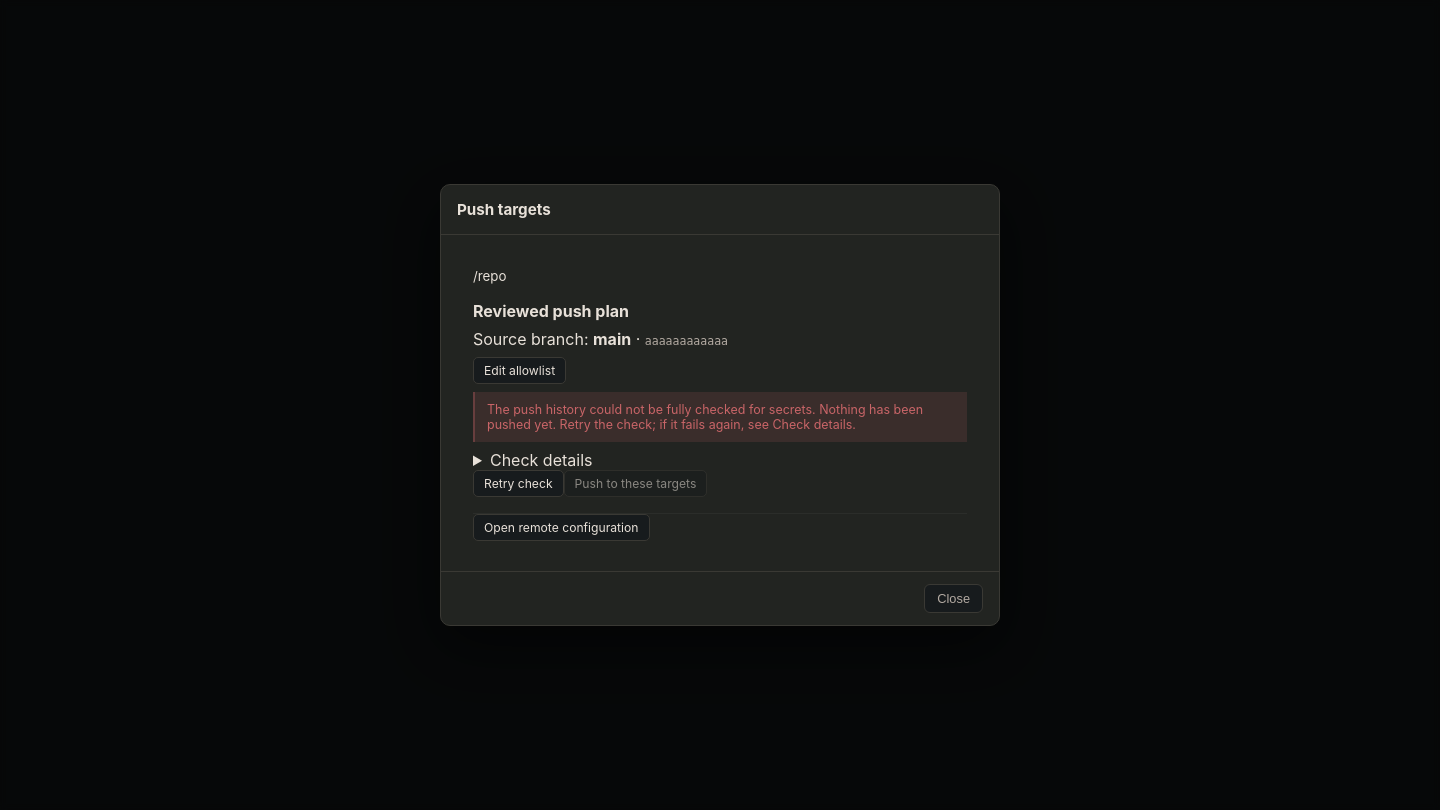
Scenario: remote transfer host and selection UI › explains incomplete scans and lets the user retry without changing remote settings
This screenshot has width=1440, height=810.
expect the message shows "Nothing has been pushed yet": met, box left=487, top=402, right=927, bottom=432
expect the button "Push to these targets" is disabled: met, box left=564, top=470, right=707, bottom=497
Click the button "Retry check". click: (518, 484)
box: left=473, top=470, right=564, bottom=497
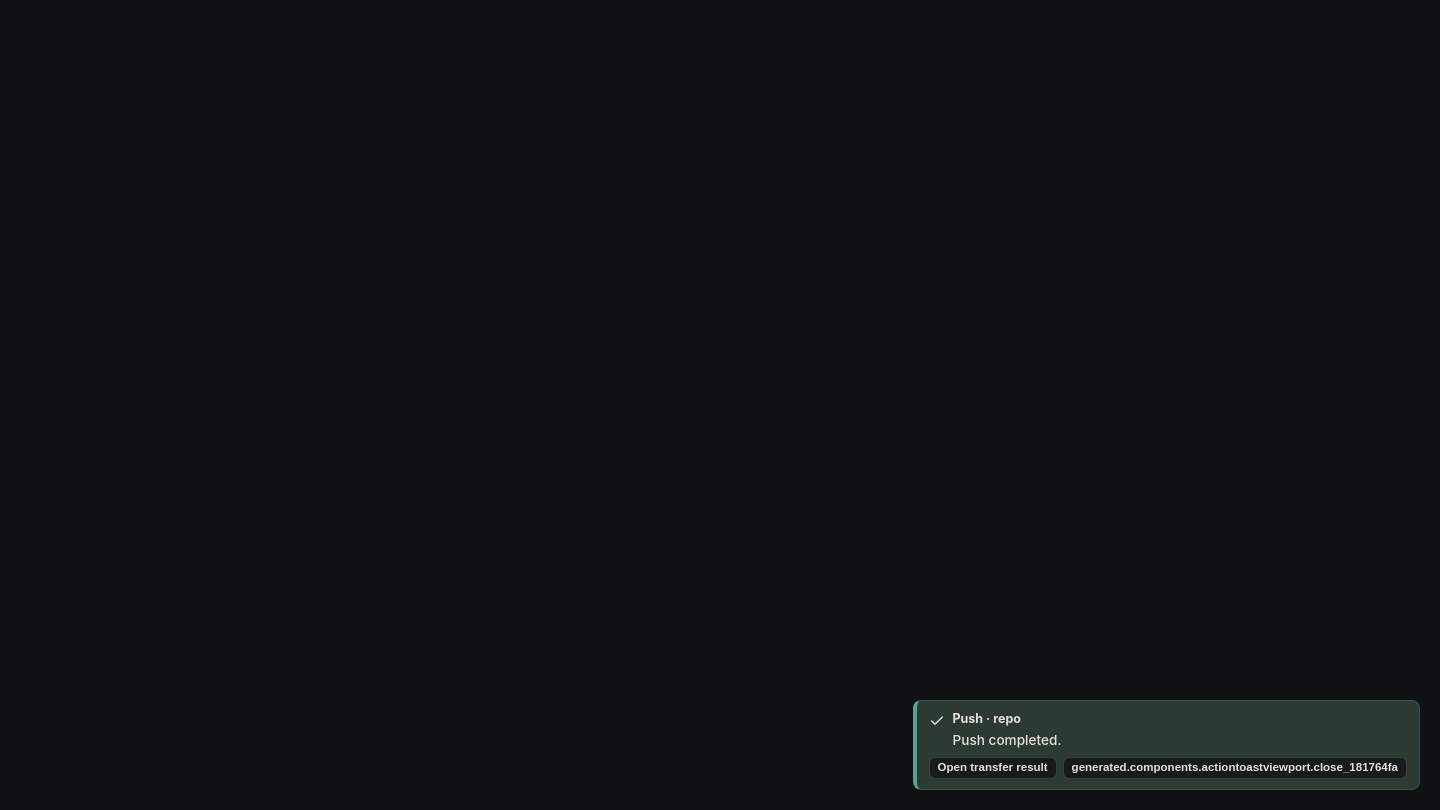
expect the dialog is gone: met
